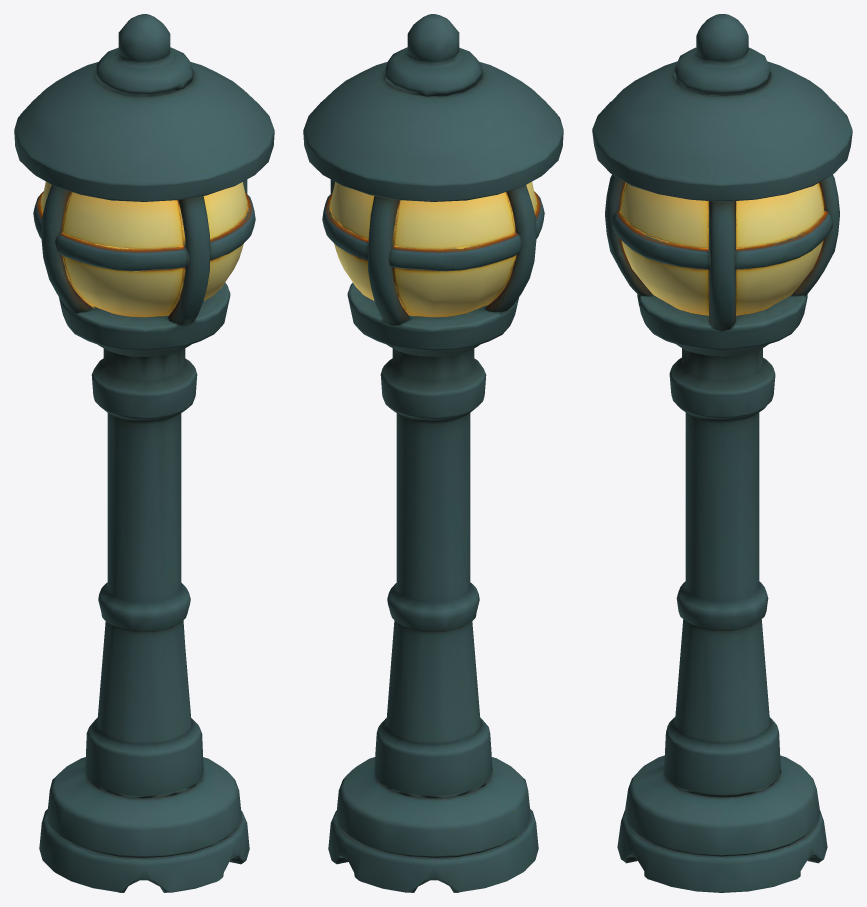
The model's file is round-lantern.glb.
3 renders of one model, left to right at view 1: azimuth 30°, elevation 25°; view 2: azimuth 150°, elevation 25°; view 3: azimuth 270°, elevation 25°, orthographic.
Parts seen in each view (by area): view 1: Round Lantern; view 2: Round Lantern; view 3: Round Lantern.
Boxes of the visible parts, x1,y1,x2,y2 form: Round Lantern: [14, 14, 274, 892]; Round Lantern: [303, 14, 563, 892]; Round Lantern: [592, 14, 852, 892].
Bounding box in the file's own units: 0.2832 × 0.998 × 0.2832.
Materials: 1 (1 with a texture image).
